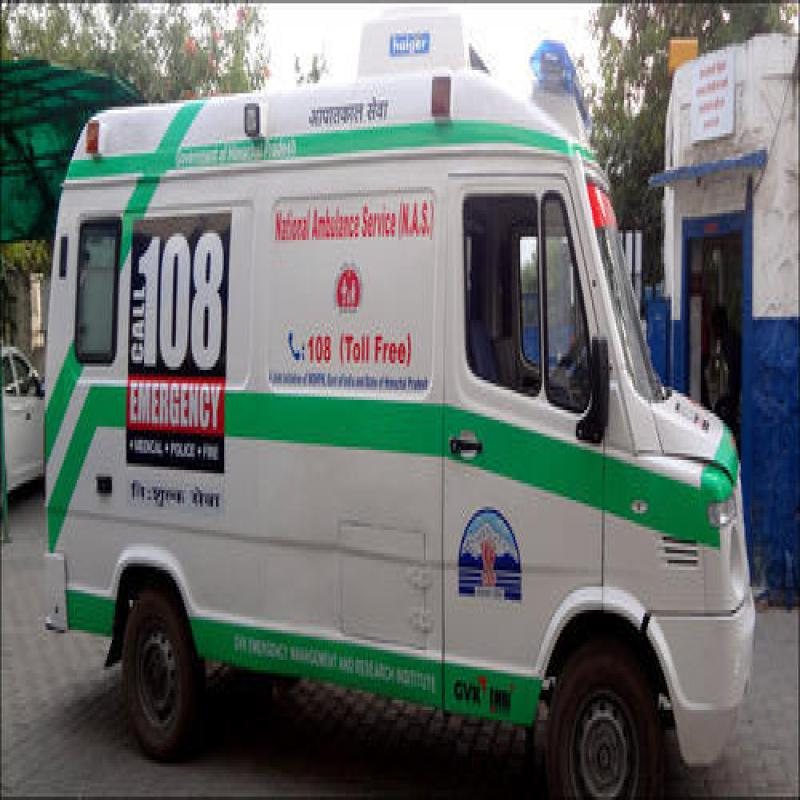ambulance: (48, 114, 735, 772)
